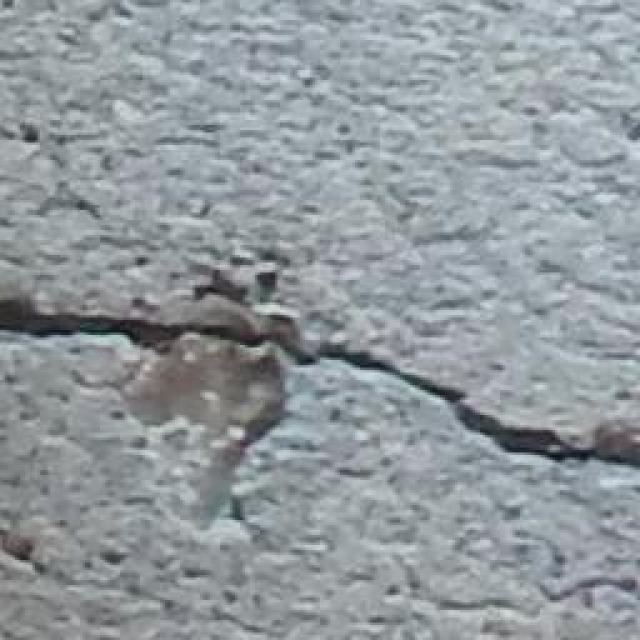concrete-crack: (0, 302, 640, 470), (0, 531, 285, 640), (441, 574, 632, 623)
